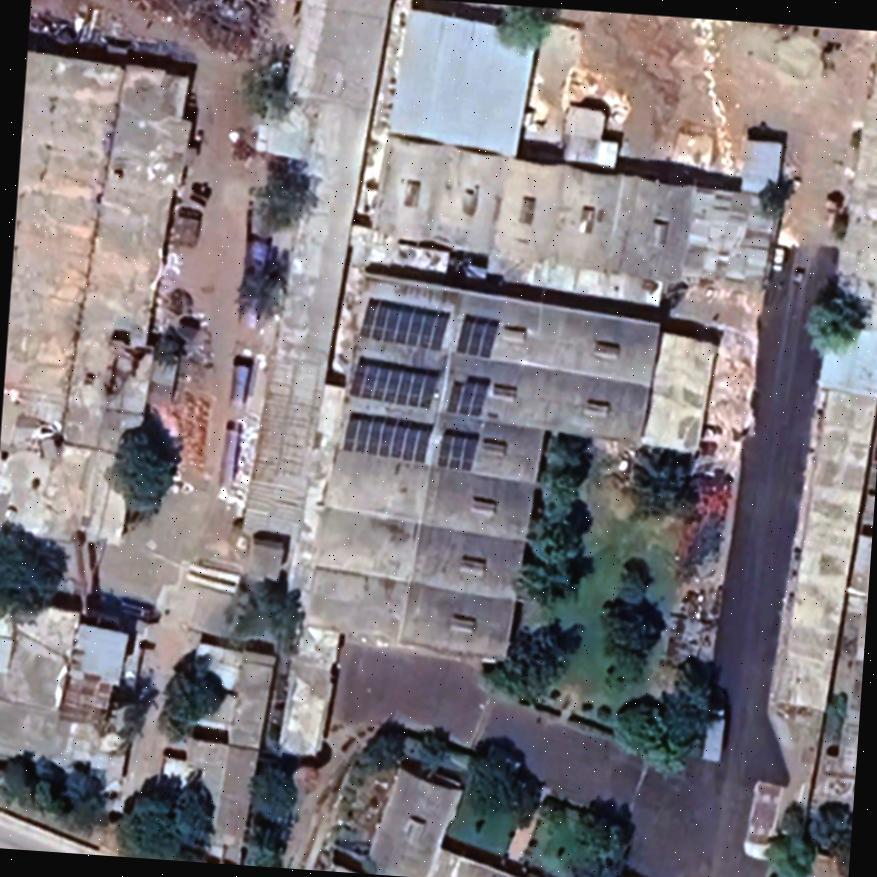Solarpanel: (341, 351, 446, 415), (348, 295, 457, 354), (332, 410, 439, 470), (428, 413, 483, 477), (451, 306, 509, 365), (440, 364, 490, 420)
